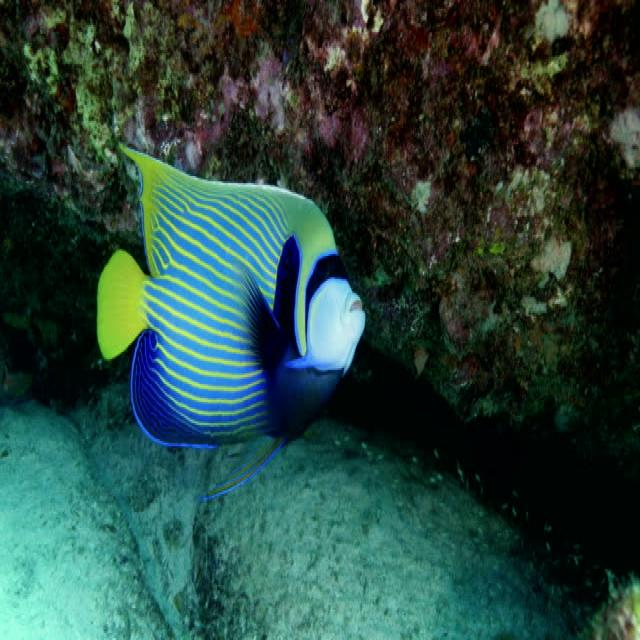AngelFish: (96, 147, 368, 461)
